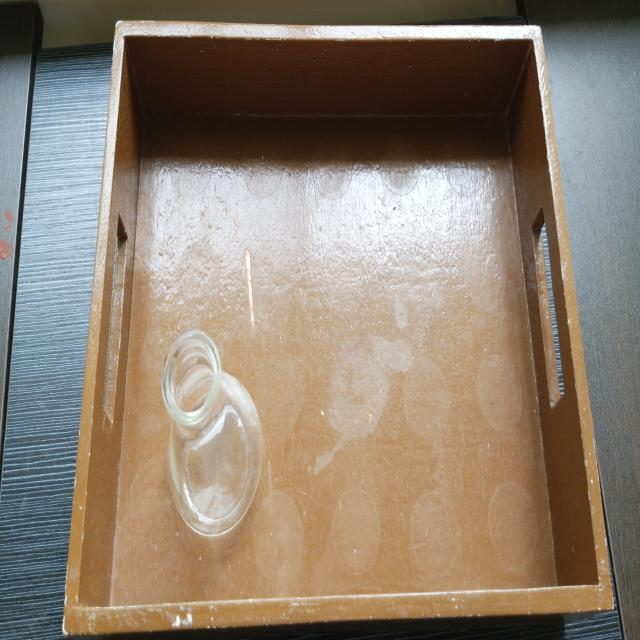erlenmeyer_flask: (154, 327, 268, 550)
